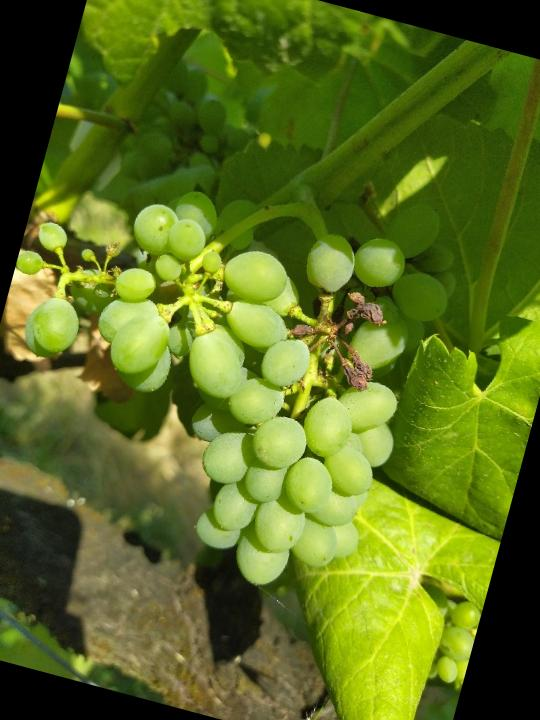grape: (0, 102, 483, 625)
